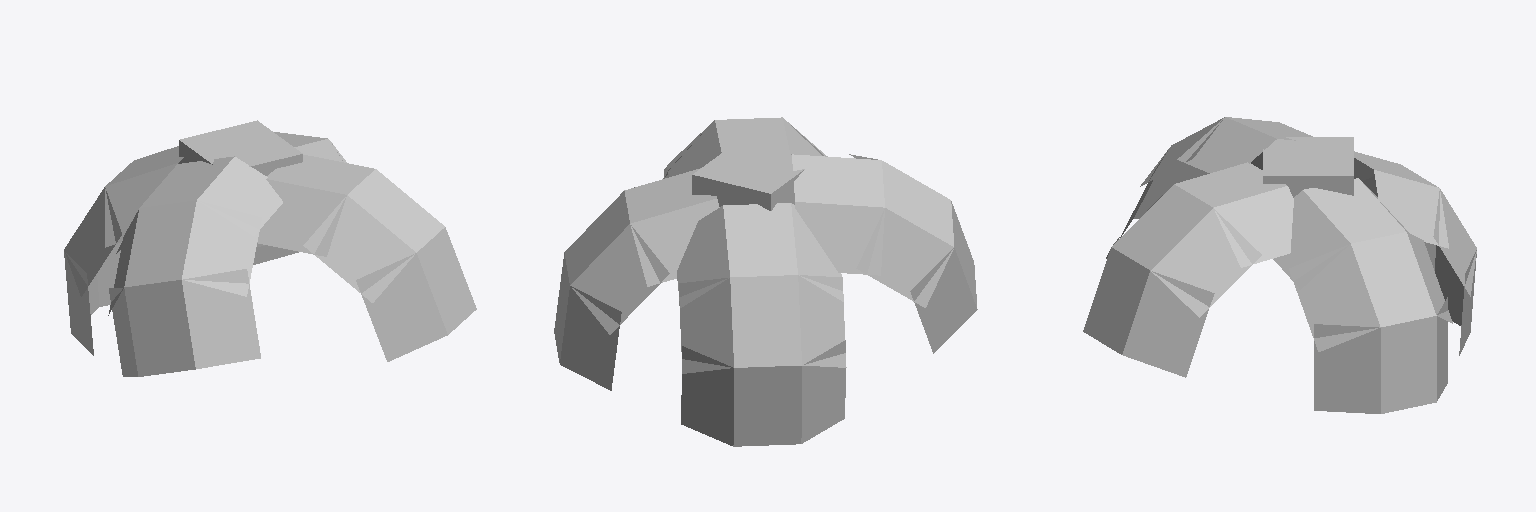
File: mt_palm_lower.obj
3 views of the same model, side by side, from view 1: azimuth 30°, elevation 25°; view 2: azimuth 150°, elevation 25°; view 3: azimuth 270°, elevation 25° (orthographic).
Visible parts, largest first — view 1: cube; view 2: cube; view 3: cube.
Boxes of the visible parts, x1=… form: cube: x1=64, y1=120, x2=476, y2=376; cube: x1=554, y1=117, x2=977, y2=446; cube: x1=1083, y1=117, x2=1476, y2=413.
Size of the model in its own units: 4.15 by 2.58 by 4.34.